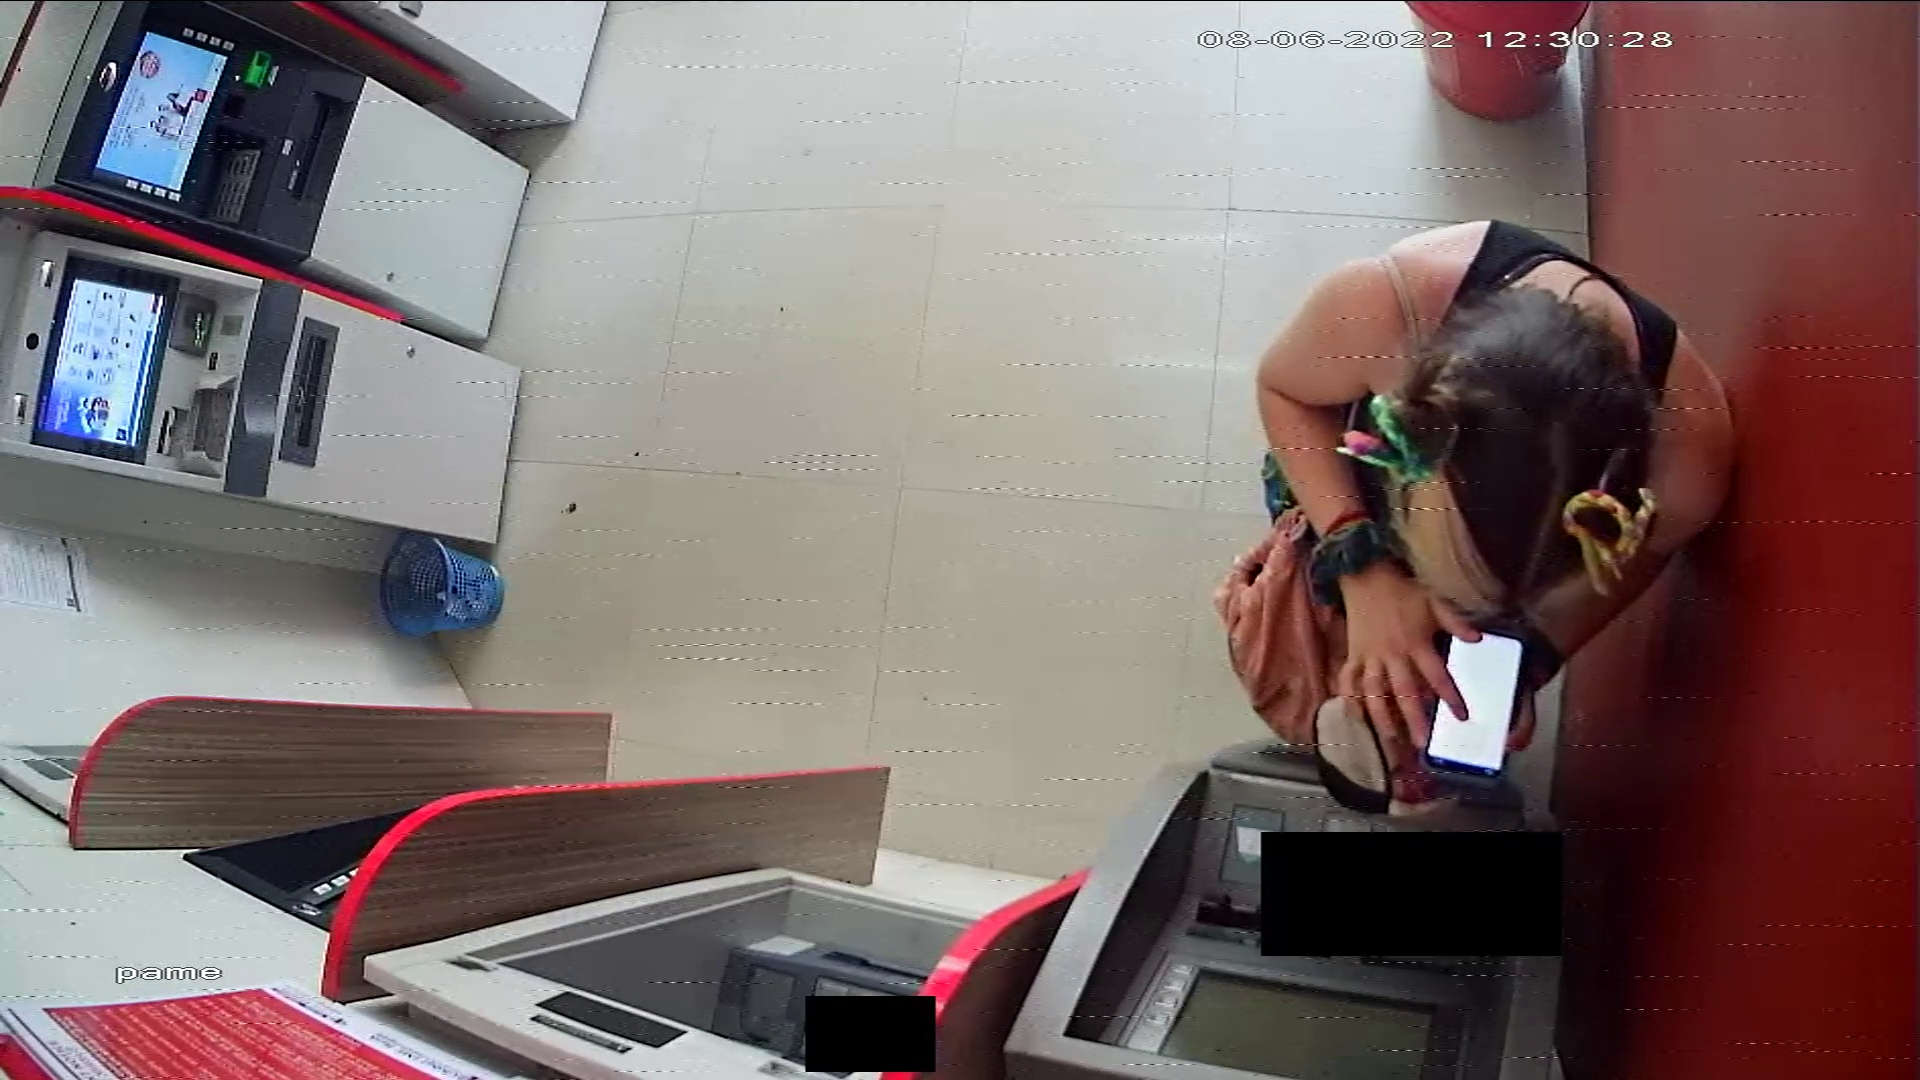person: (1256, 220, 1733, 771)
phone: (1424, 625, 1522, 775)
